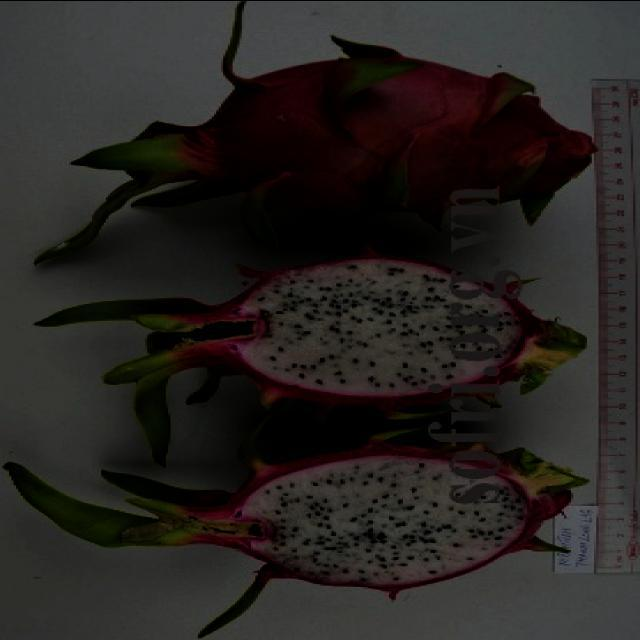trang: (23, 2, 601, 264), (0, 424, 586, 638), (37, 246, 586, 457)
